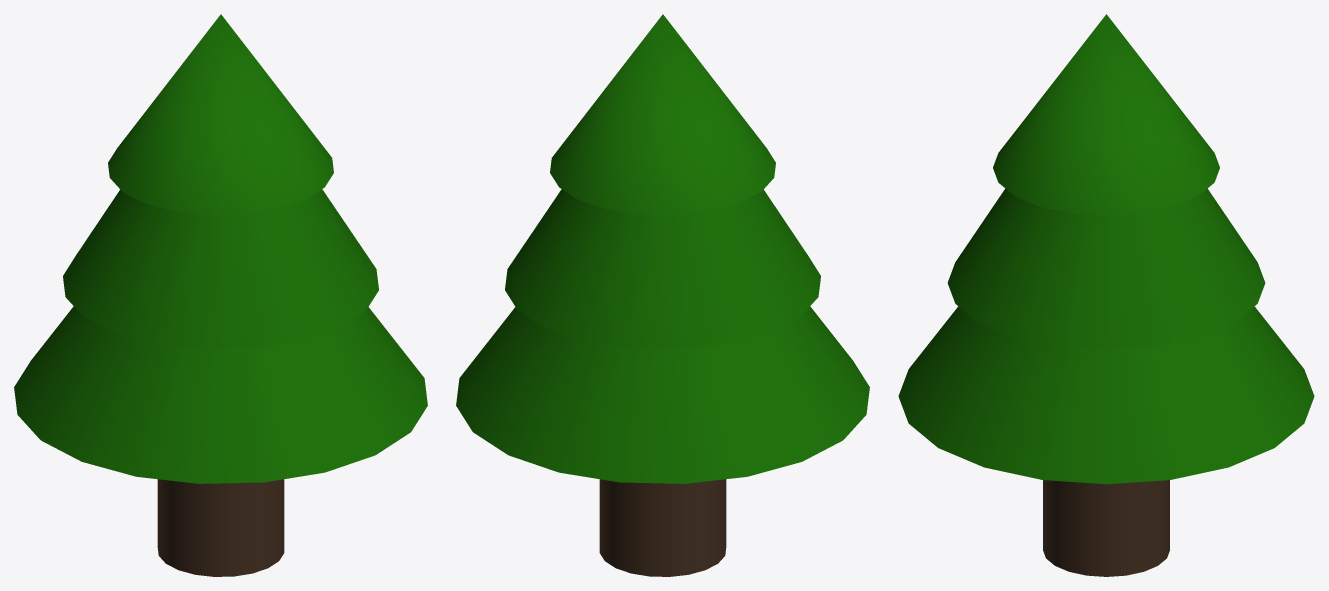
The model's file is Arbol 3.fbx.
The picture shows the model from 3 angles, left to right: view 1: azimuth 30°, elevation 25°; view 2: azimuth 150°, elevation 25°; view 3: azimuth 270°, elevation 25°; orthographic projection.
Parts seen in each view (by area): view 1: Arbol_1; view 2: Arbol_1; view 3: Arbol_1.
Part boxes in pixels (left/top/right/bottom): Arbol_1: left=14, top=14, right=427, bottom=576; Arbol_1: left=456, top=14, right=869, bottom=576; Arbol_1: left=898, top=14, right=1314, bottom=576.
Bounding box in the file's own units: 13.52 × 19.23 × 13.52.
